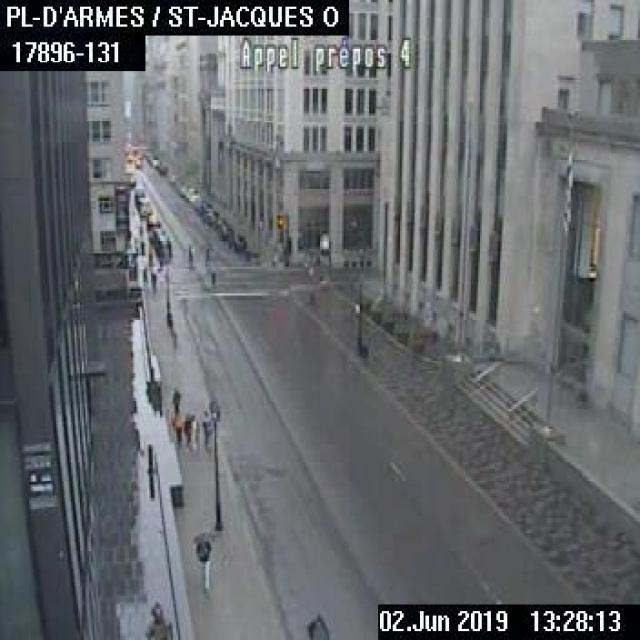pedestrian: (191, 530, 211, 593), (182, 410, 198, 453), (200, 407, 211, 454), (170, 405, 181, 445), (170, 386, 180, 412), (149, 268, 155, 292), (187, 244, 192, 267), (209, 269, 215, 287), (146, 248, 152, 265), (203, 247, 208, 265), (142, 265, 146, 284)
vehicle: (154, 233, 170, 254), (228, 231, 246, 248), (136, 196, 151, 214), (148, 226, 164, 240), (219, 221, 232, 237), (146, 212, 159, 225), (133, 185, 144, 200)
